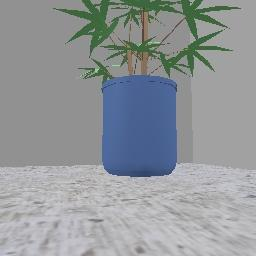planta: (55, 0, 240, 176)
